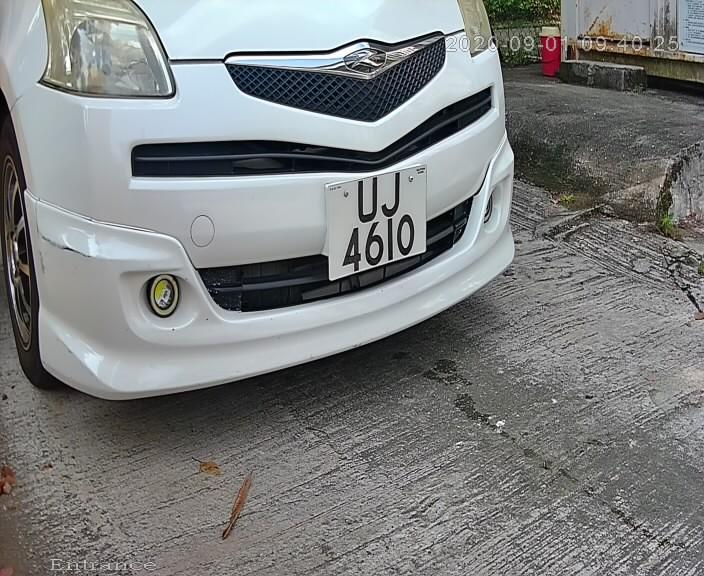Car: (4, 1, 566, 427)
License Plate: (318, 160, 431, 291)
